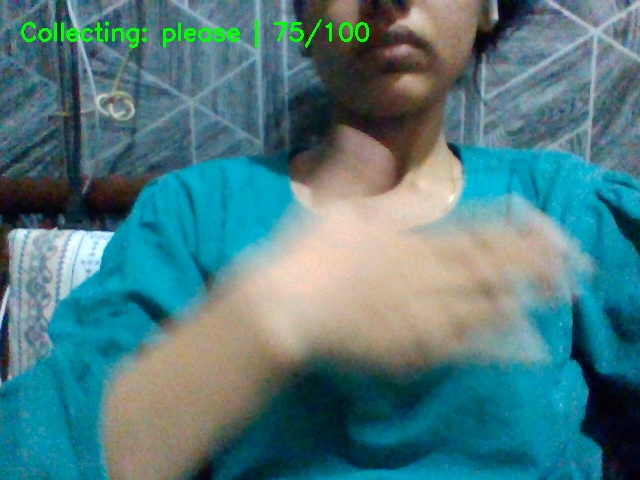please: (255, 127, 572, 391)
